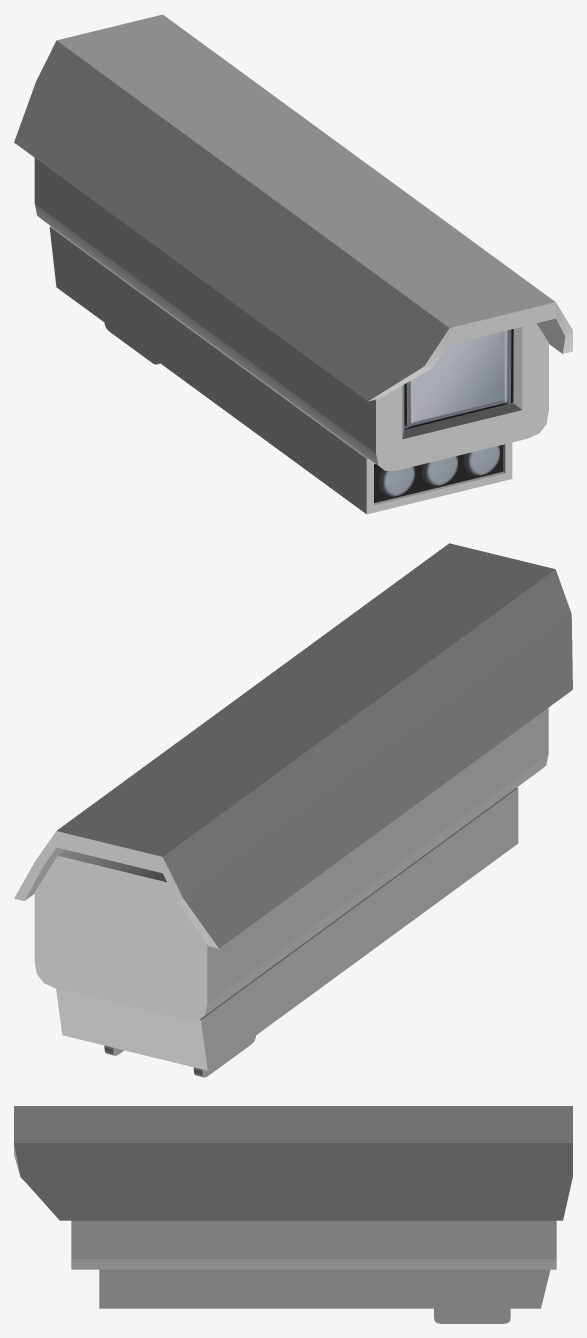
Rendered from device.glb.
3 renders of one model, top to bottom at view 1: azimuth 30°, elevation 25°; view 2: azimuth 150°, elevation 25°; view 3: azimuth 270°, elevation 25°, orthographic. The views are drawn at different scales.
Parts seen in each view (by area): view 1: chaojikakou.001, chaojikakou; view 2: chaojikakou.001, chaojikakou; view 3: chaojikakou.001, chaojikakou.
Part boxes in pixels (x1,y1,x2,y2): chaojikakou.001: (14,14,572,401); chaojikakou: (34,158,548,514); chaojikakou.001: (14,543,572,948); chaojikakou: (34,708,548,1077); chaojikakou.001: (14,1106,572,1220); chaojikakou: (71,1220,556,1323).
Size of the model in its own units: 0.1514 by 0.1808 by 0.5025.
Materials: 2 (1 with a texture image).
